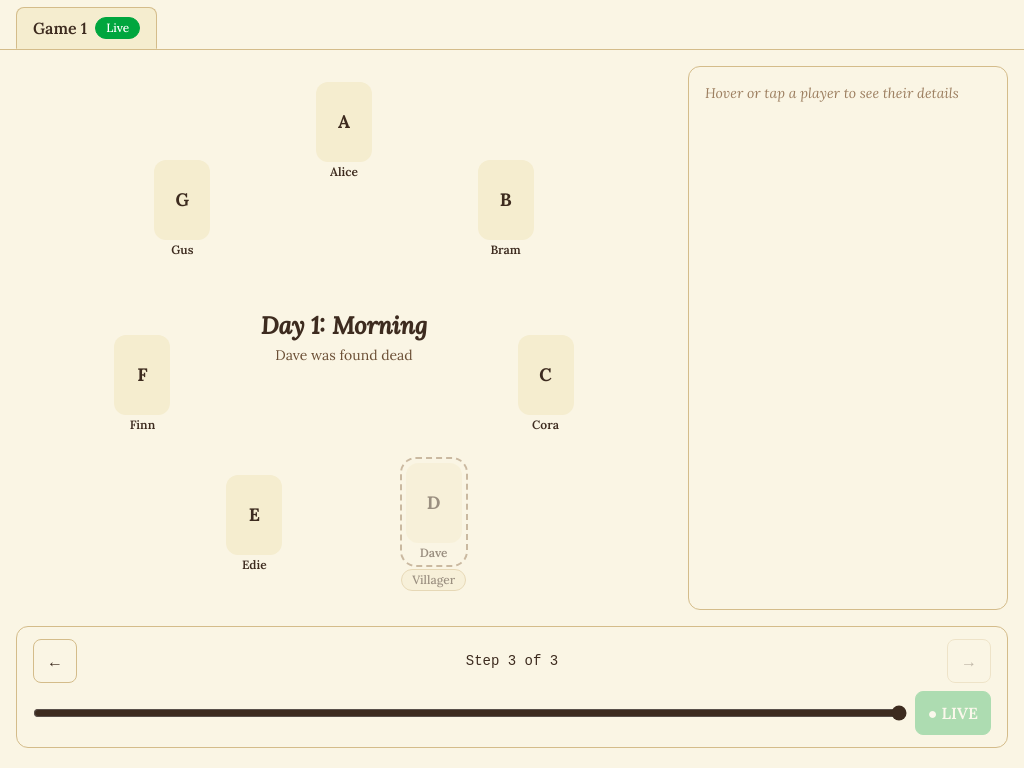
Test: live mode and polling › a viewer who stepped back stays put until pressing Live
Click the button named "Previous".
click(55, 661)  # box [33,639,77,683]
Wait 5000 ms
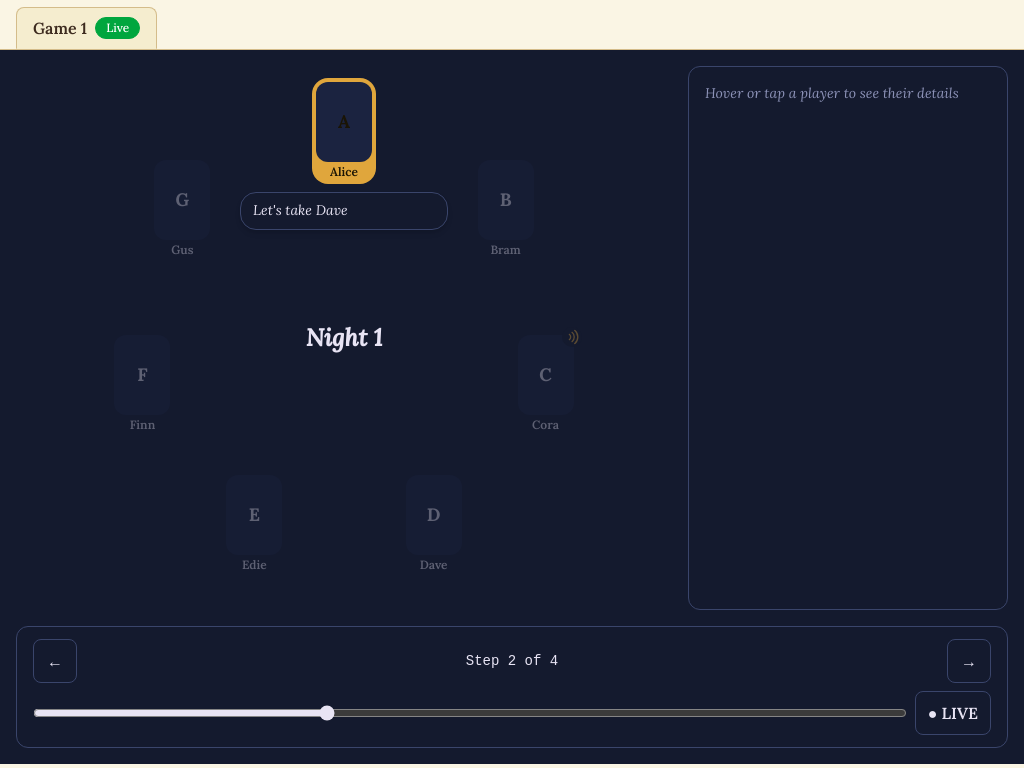
Expected: the text "Step 2 of 4" is shown, [466,653,558,669]
Click the button with aria-label "Go to live".
click(953, 713)  # box [915,691,991,735]
Wait 5000 ms
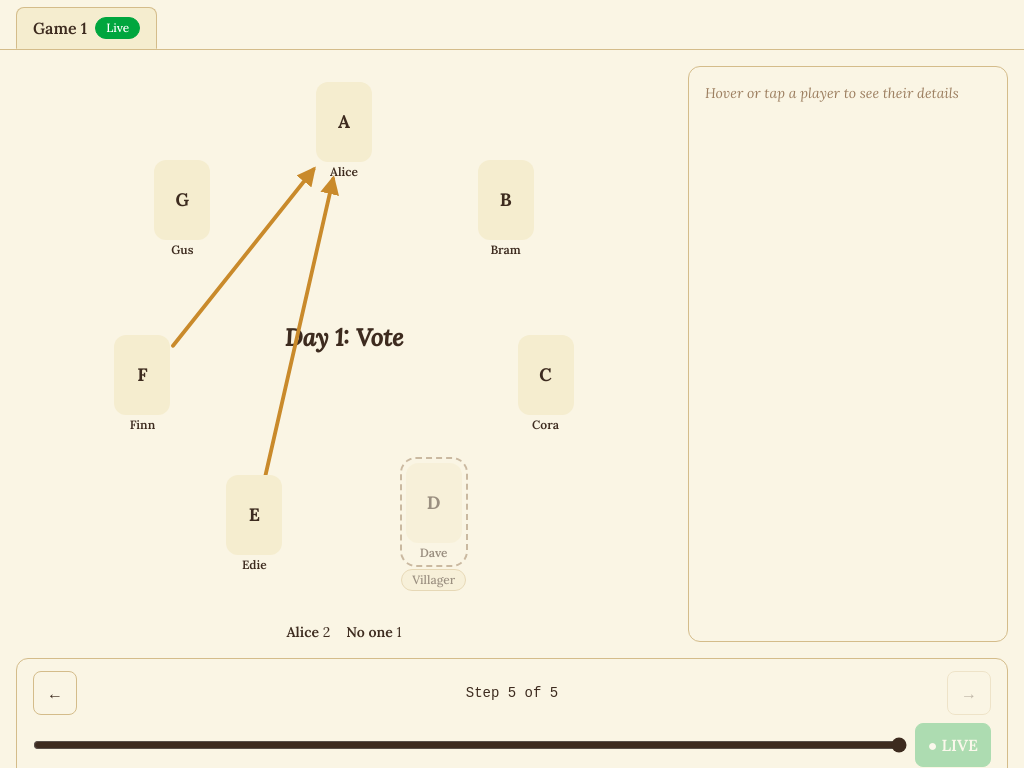
Expected: the text "Step 5 of 5" is shown, [466,685,558,701]
